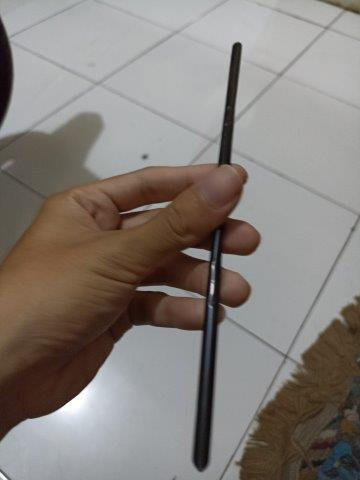sedotan: (191, 42, 242, 465)
